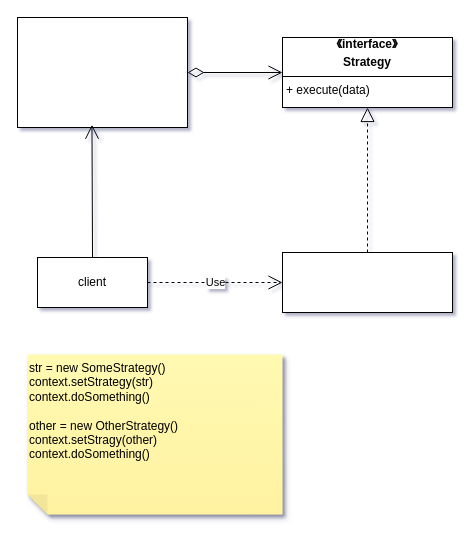
Image size: 476x545. Some labels were removed from this diagram. The centre of each missing label's shape, as x and y in pixels:
ConcreteStrategies + execute(data): point 367,282
Context - strategy +setStrategy(Strategy) +doSomething(): point 102,72
